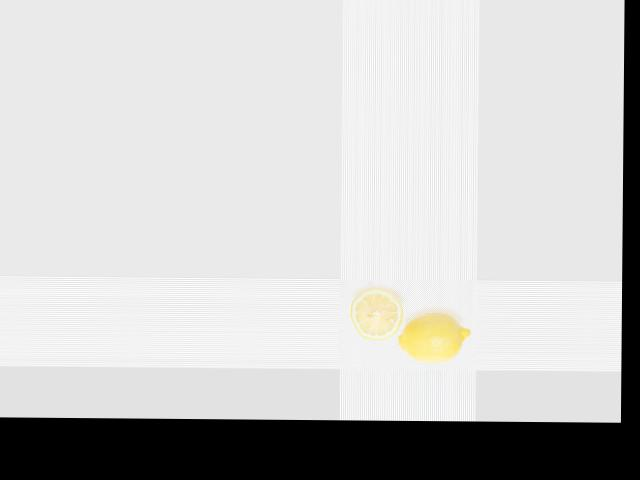lemon: (390, 315, 470, 367)
